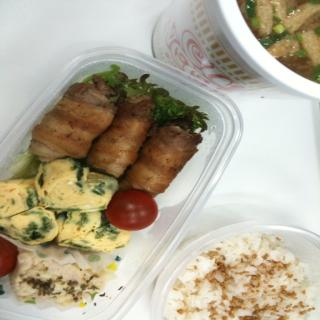tomato: (102, 190, 167, 230), (0, 236, 19, 278)
